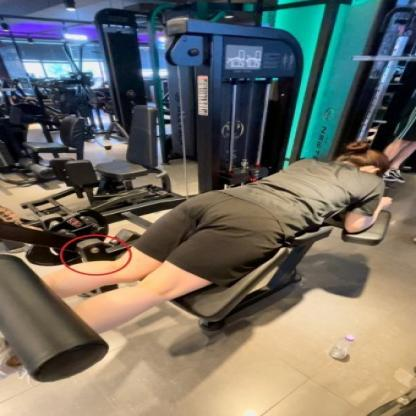reg curl machine: (0, 15, 394, 384)
